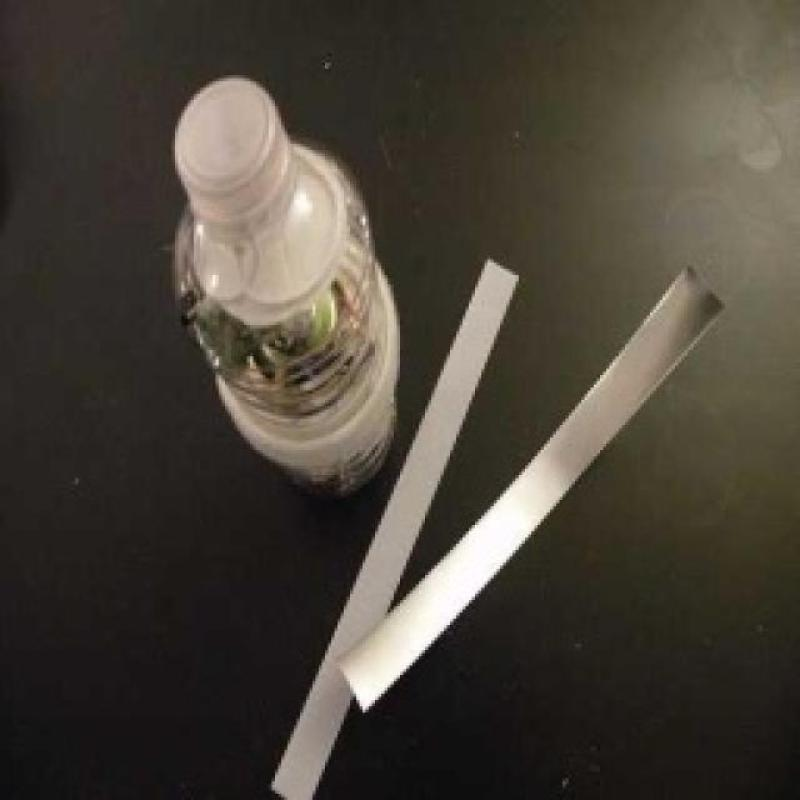botella: (174, 80, 404, 489)
